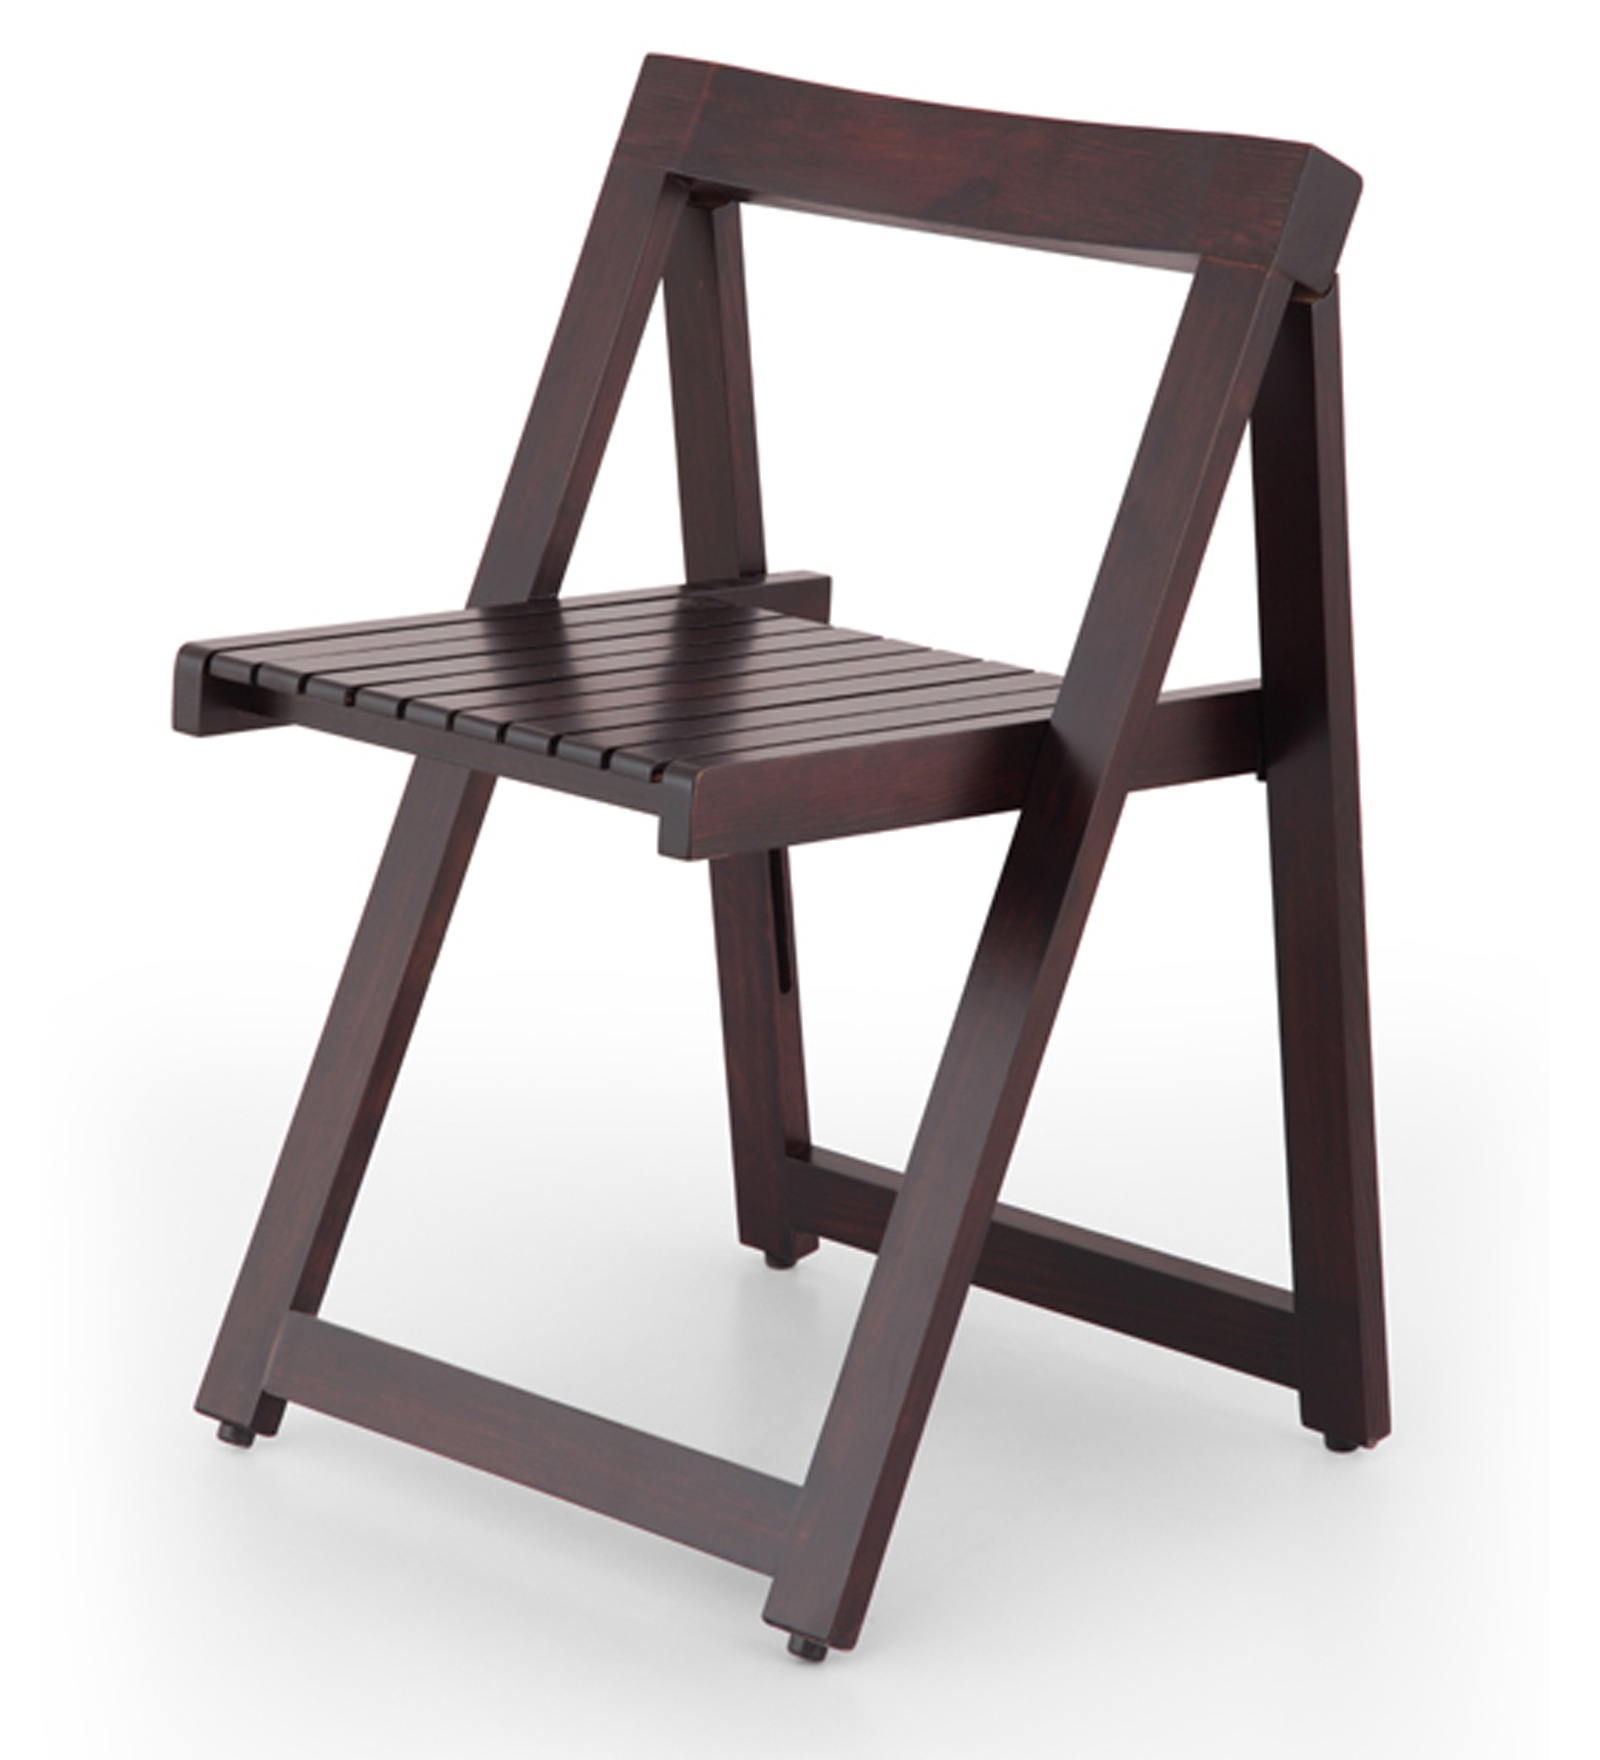Foldable Dining Chair in Ebony Finish by Ekbote Furniture: (120, 23, 1464, 1703)
